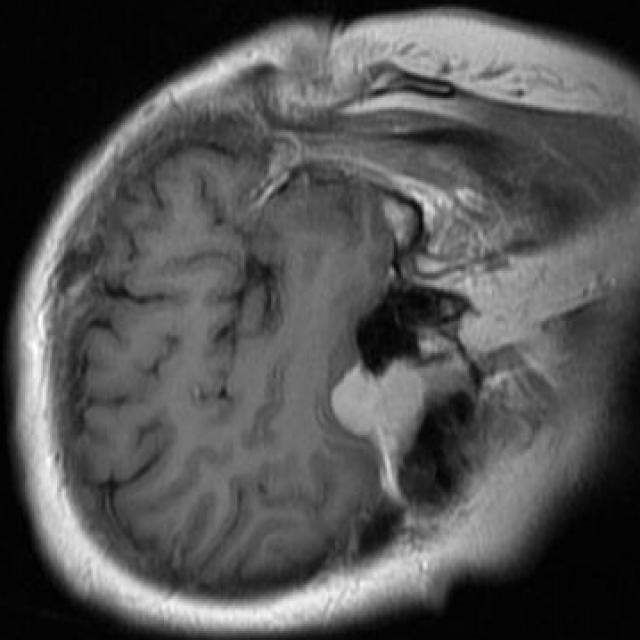meningioma: (330, 364, 424, 508)
